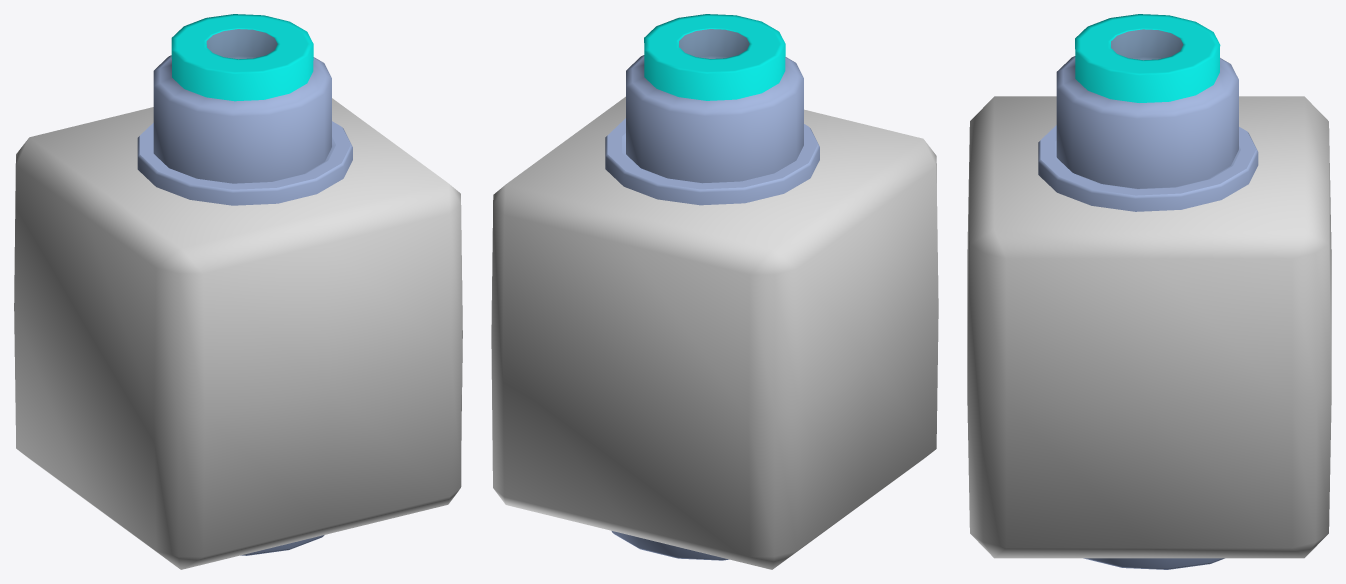
Rendered from programmingblock.fbx.
The picture shows the model from 3 angles, left to right: view 1: azimuth 30°, elevation 25°; view 2: azimuth 150°, elevation 25°; view 3: azimuth 270°, elevation 25°; orthographic projection. The views are drawn at different scales.
Parts seen in each view (by area): view 1: Block, plug, plug hole; view 2: Block, plug, plug hole, socket; view 3: Block, plug, plug hole, socket.
Part boxes in pixels (<box>): Block: <box>14,98,462,569</box>; plug: <box>153,14,331,183</box>; plug hole: <box>137,121,352,205</box>; Block: <box>491,96,938,569</box>; plug: <box>626,14,803,183</box>; plug hole: <box>605,118,819,205</box>; socket: <box>611,531,728,560</box>; Block: <box>967,96,1331,558</box>; plug: <box>1056,14,1238,188</box>; plug hole: <box>1038,125,1258,211</box>; socket: <box>1083,558,1224,569</box>.
Bounding box in the file's own units: 200 × 291 × 200.
